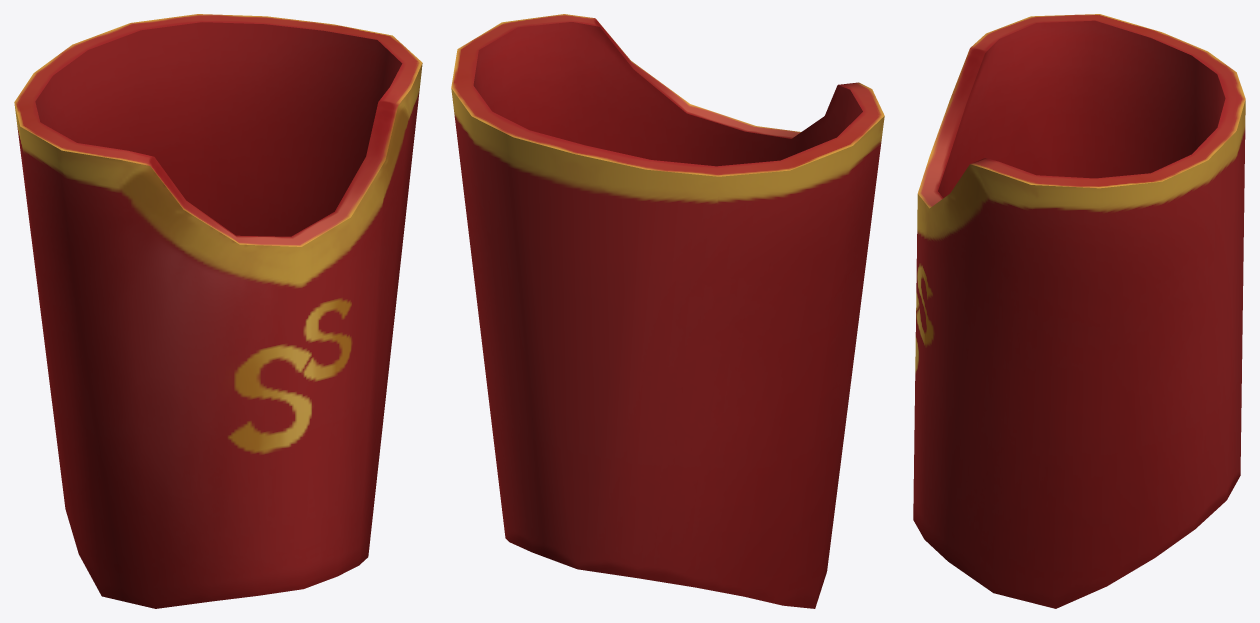
The model's file is friespocketEmpty.fbx.
3 views of the same model, side by side, from view 1: azimuth 30°, elevation 25°; view 2: azimuth 150°, elevation 25°; view 3: azimuth 270°, elevation 25° (orthographic). The views are drawn at different scales.
Parts seen in each view (by area): view 1: friespocketEmpty; view 2: friespocketEmpty; view 3: friespocketEmpty.
Boxes of the visible parts, <box> form: friespocketEmpty: <box>14,14,422,608</box>; friespocketEmpty: <box>451,14,884,608</box>; friespocketEmpty: <box>913,14,1245,608</box>.
Size of the model in its own units: 20.42 by 24.62 by 16.46.
